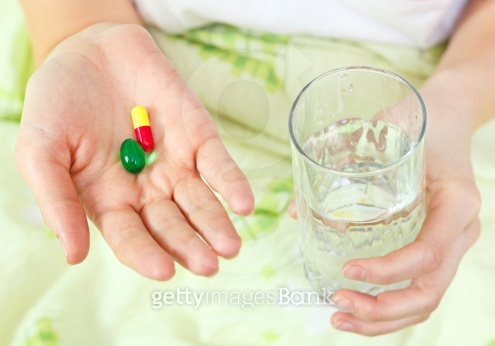glass of water: (286, 61, 428, 302)
